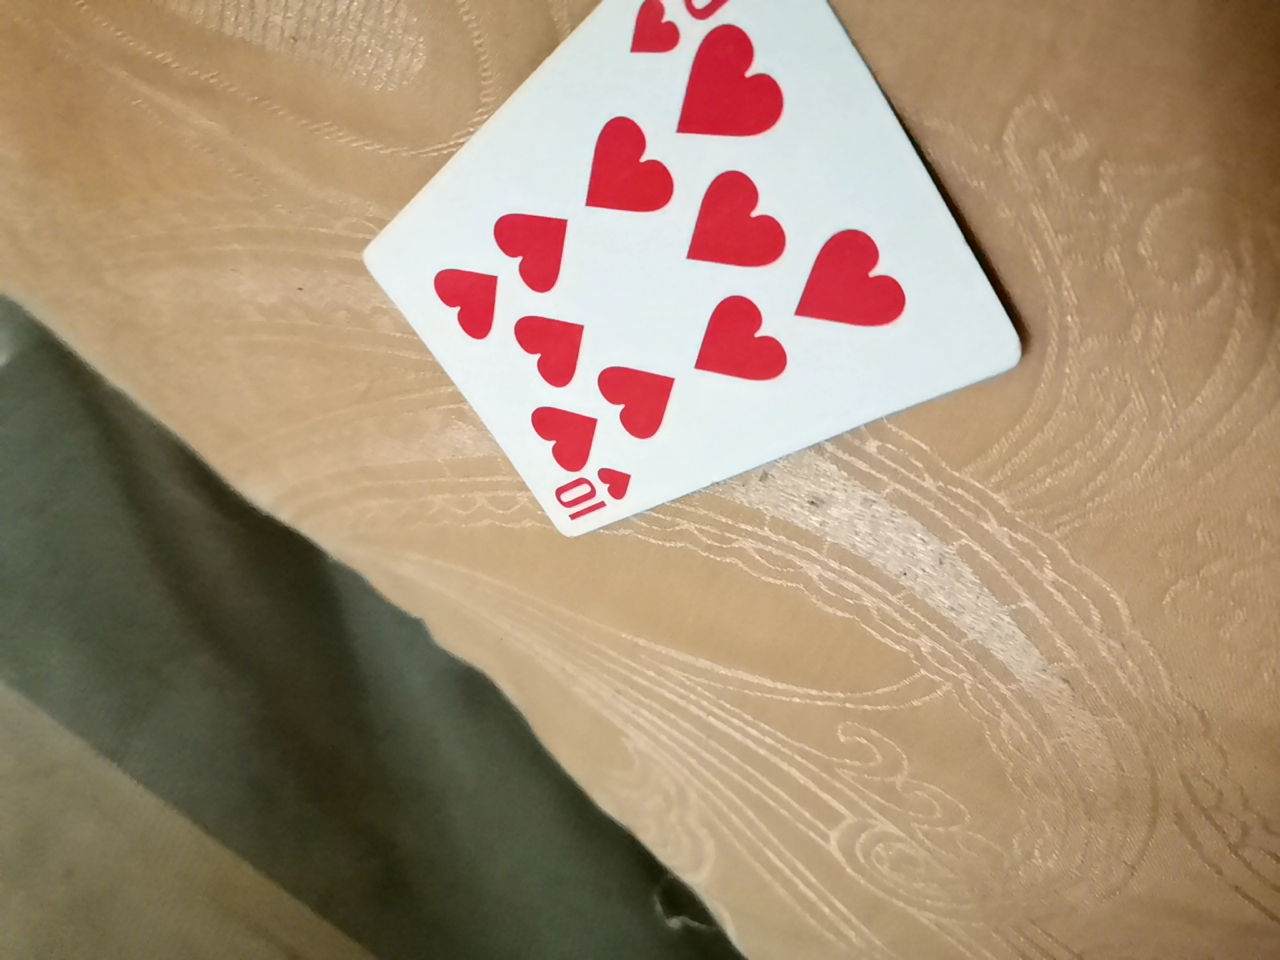hx 10: (340, 0, 1008, 533)
